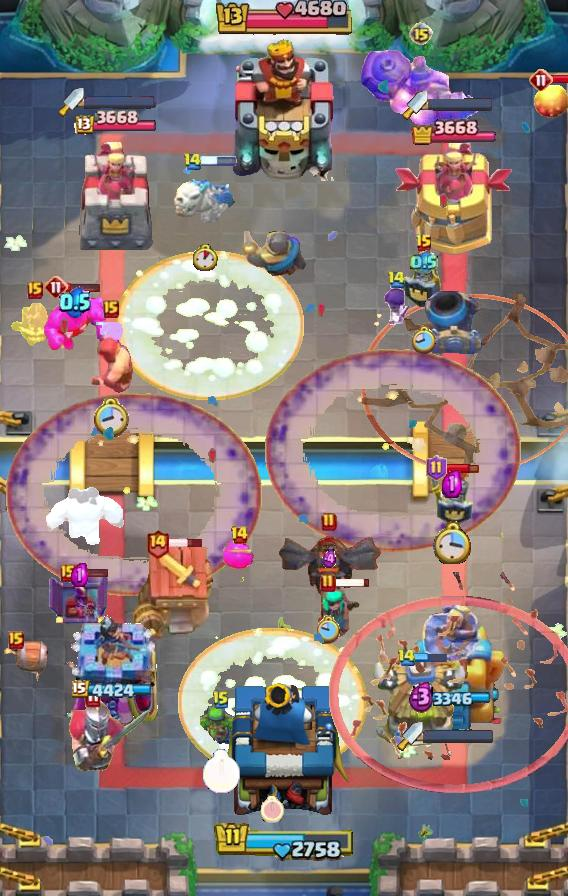archer-evolution: (277, 535, 381, 599)
bar: (398, 595, 508, 731), (395, 142, 514, 256), (73, 140, 155, 256)
clock: (214, 821, 354, 862), (213, 0, 355, 38)
electro-spirit: (59, 286, 91, 318), (409, 680, 436, 713), (410, 250, 438, 275), (442, 470, 462, 498), (71, 563, 89, 587), (323, 549, 337, 569)
elixir: (202, 749, 241, 794), (433, 521, 472, 564), (93, 398, 129, 439), (412, 325, 437, 355), (193, 244, 218, 271), (317, 615, 341, 643), (260, 797, 283, 824)
emote: (168, 537, 205, 549), (444, 462, 479, 474), (412, 651, 447, 663), (333, 577, 370, 588), (66, 283, 101, 294), (75, 567, 110, 578), (199, 156, 237, 166), (552, 75, 568, 86)
firecracker: (241, 231, 307, 277)
giant-snowball: (200, 706, 242, 746)
goblin: (380, 287, 412, 327)
guard: (360, 294, 567, 473)
hog: (534, 81, 568, 119)
ice-spirit-evolution-symbol: (47, 573, 111, 627)
king-tower: (219, 678, 349, 826), (228, 35, 340, 181)
king-tower-bar: (84, 95, 156, 109), (423, 729, 495, 743), (428, 97, 492, 110)
knight: (0, 640, 50, 682)
mighty-miner: (83, 322, 139, 398)
miner: (223, 539, 255, 569)
mini-pekka: (172, 165, 238, 229)
musketeer: (424, 290, 484, 354)
phoenix-big: (178, 627, 366, 777), (115, 251, 304, 400)
prince: (370, 656, 472, 752)
princess: (402, 243, 446, 311), (428, 464, 476, 526)
queen-tower: (65, 614, 162, 730)
rage: (43, 484, 127, 548)
rocket: (265, 349, 521, 553), (6, 393, 262, 597)
selected: (412, 115, 497, 148), (72, 111, 156, 138), (72, 679, 156, 700), (413, 688, 493, 708)
skeleton-barrel: (328, 573, 567, 796)
sparky: (133, 546, 219, 644)
spear-goblin: (9, 303, 61, 347)
text: (146, 529, 170, 560), (409, 22, 433, 46), (529, 68, 553, 92), (44, 275, 68, 299), (426, 455, 447, 481), (230, 525, 249, 545), (182, 153, 201, 172), (415, 233, 433, 253), (386, 271, 406, 289), (212, 690, 230, 710), (397, 649, 416, 667), (321, 512, 337, 532), (320, 573, 336, 593), (27, 281, 43, 299), (103, 300, 119, 318), (60, 564, 76, 582), (8, 631, 24, 649)
tornado: (44, 291, 106, 351)
wall-breaker-evolution: (67, 685, 153, 777)
witch: (315, 588, 361, 646)
wizard: (359, 49, 483, 127)
